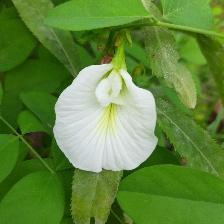shankupushpam: (52, 63, 161, 175)
